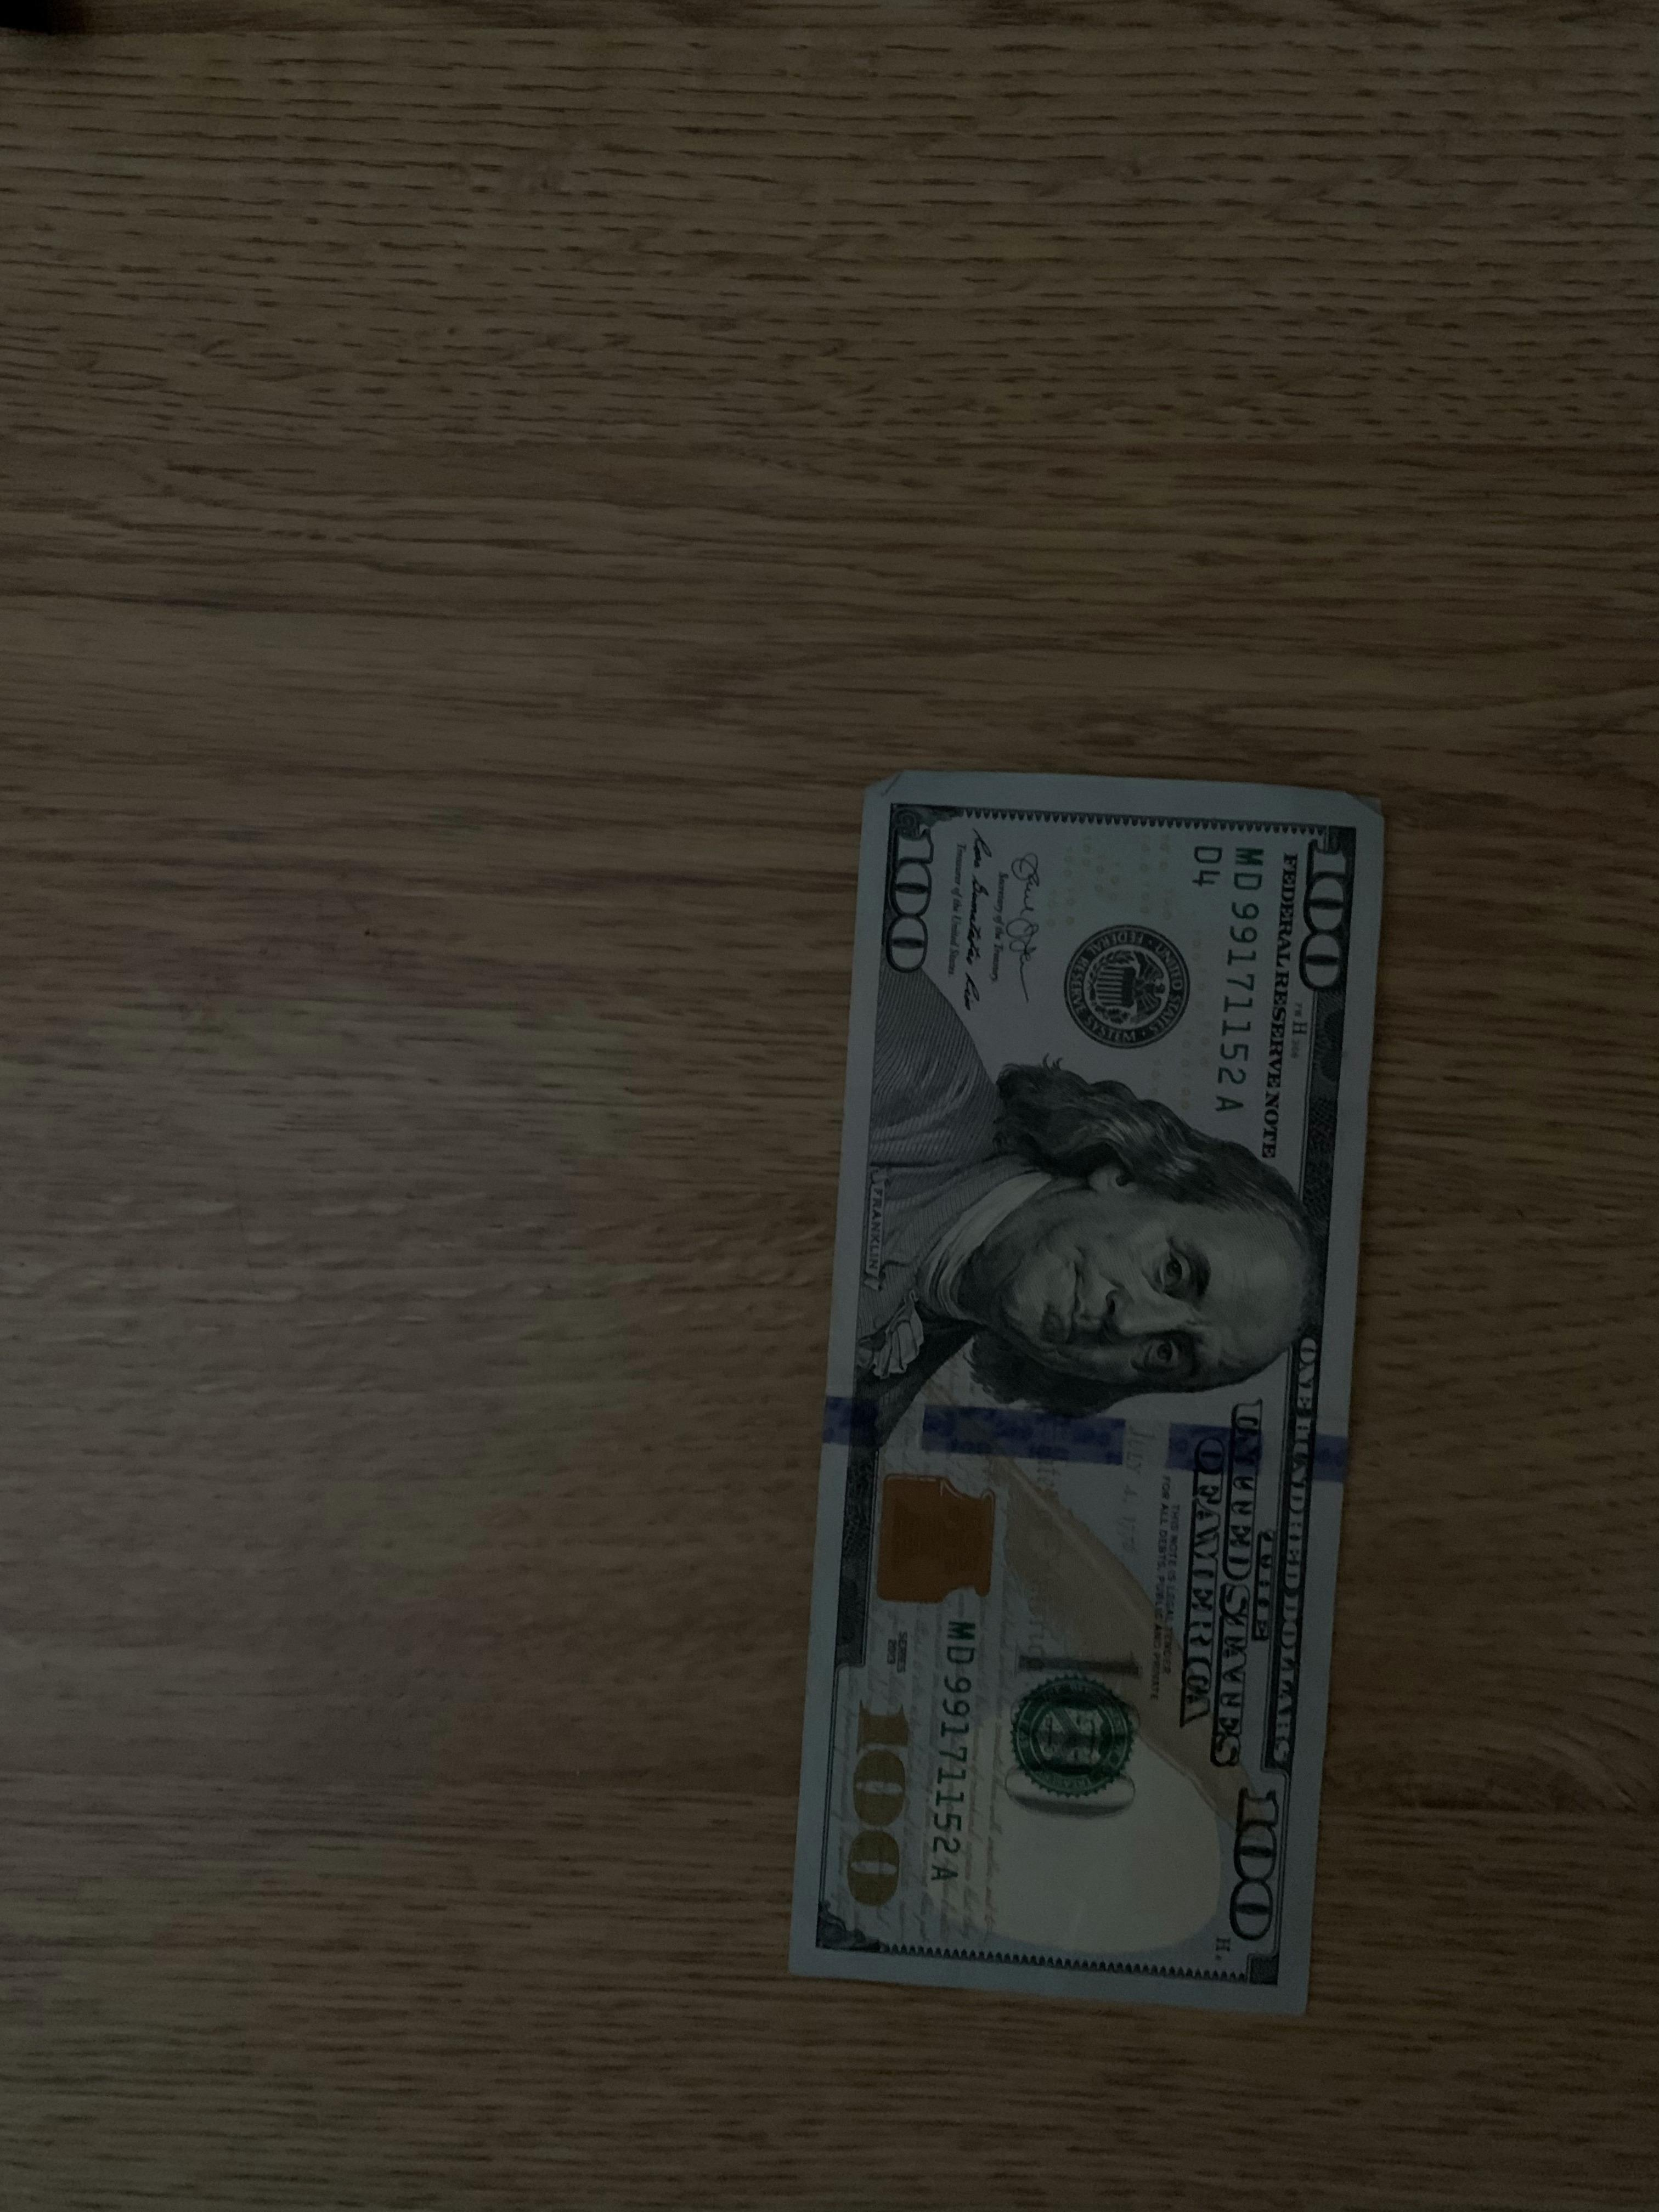HundredBill: (784, 775, 1394, 2013)
